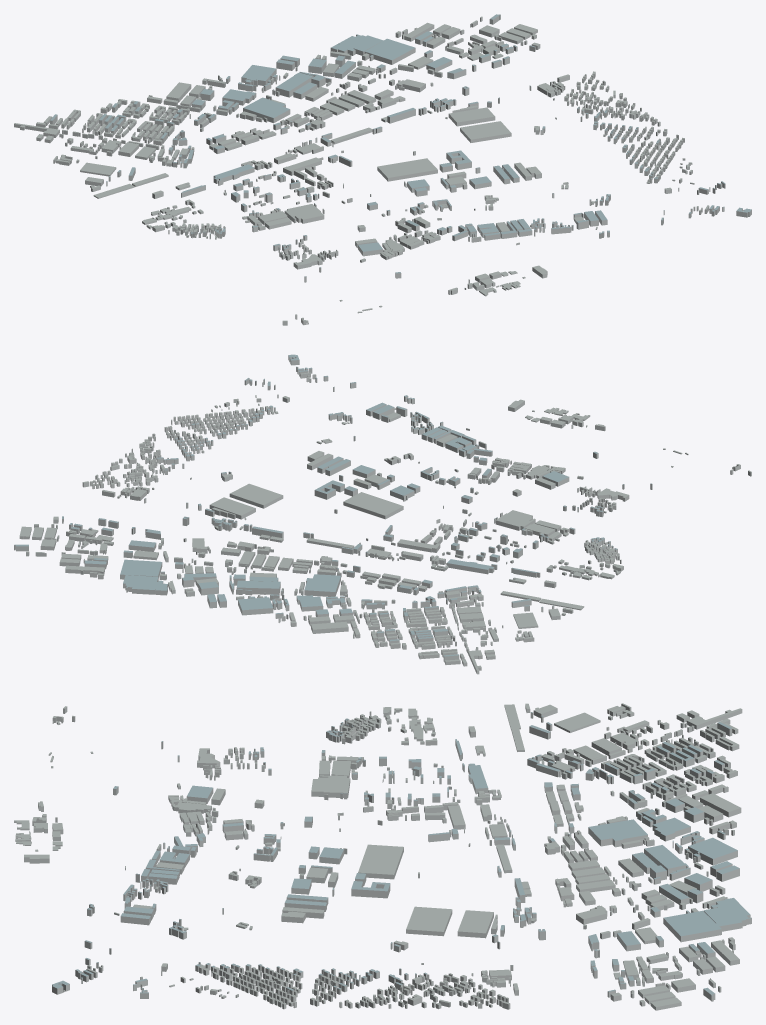
The model's file is far.glb.
The picture shows the model from 3 angles, top to bottom: view 1: azimuth 30°, elevation 25°; view 2: azimuth 150°, elevation 25°; view 3: azimuth 270°, elevation 25°; orthographic projection. The views are drawn at different scales.
Size of the model in its own units: 2121 by 31.3 by 2168.
